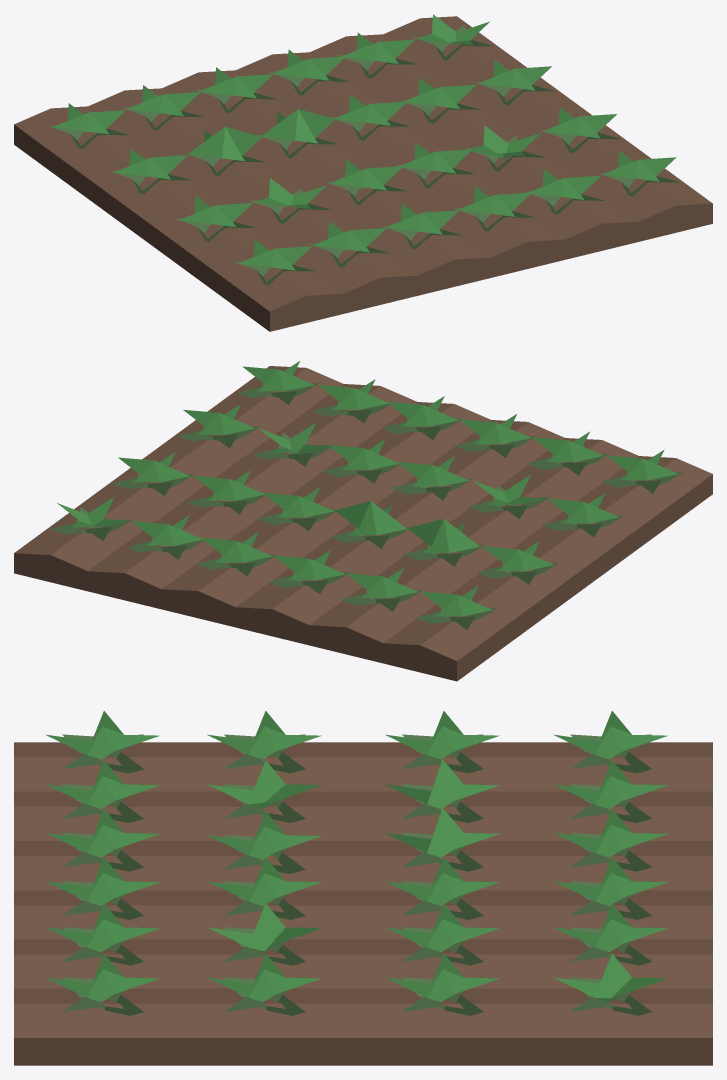
Rendered from spinach-farm.obj.
3 renders of one model, top to bottom at view 1: azimuth 30°, elevation 25°; view 2: azimuth 150°, elevation 25°; view 3: azimuth 270°, elevation 25°, orthographic. The views are drawn at different scales.
Visible parts, largest first — view 1: spinach-farm; view 2: spinach-farm; view 3: spinach-farm.
Part boxes in pixels (box(x1,y1,x2,y2)): spinach-farm: box(14, 14, 712, 331); spinach-farm: box(14, 361, 712, 681); spinach-farm: box(14, 711, 712, 1065).
Size of the model in its own units: 1.96 by 0.2669 by 1.96.
